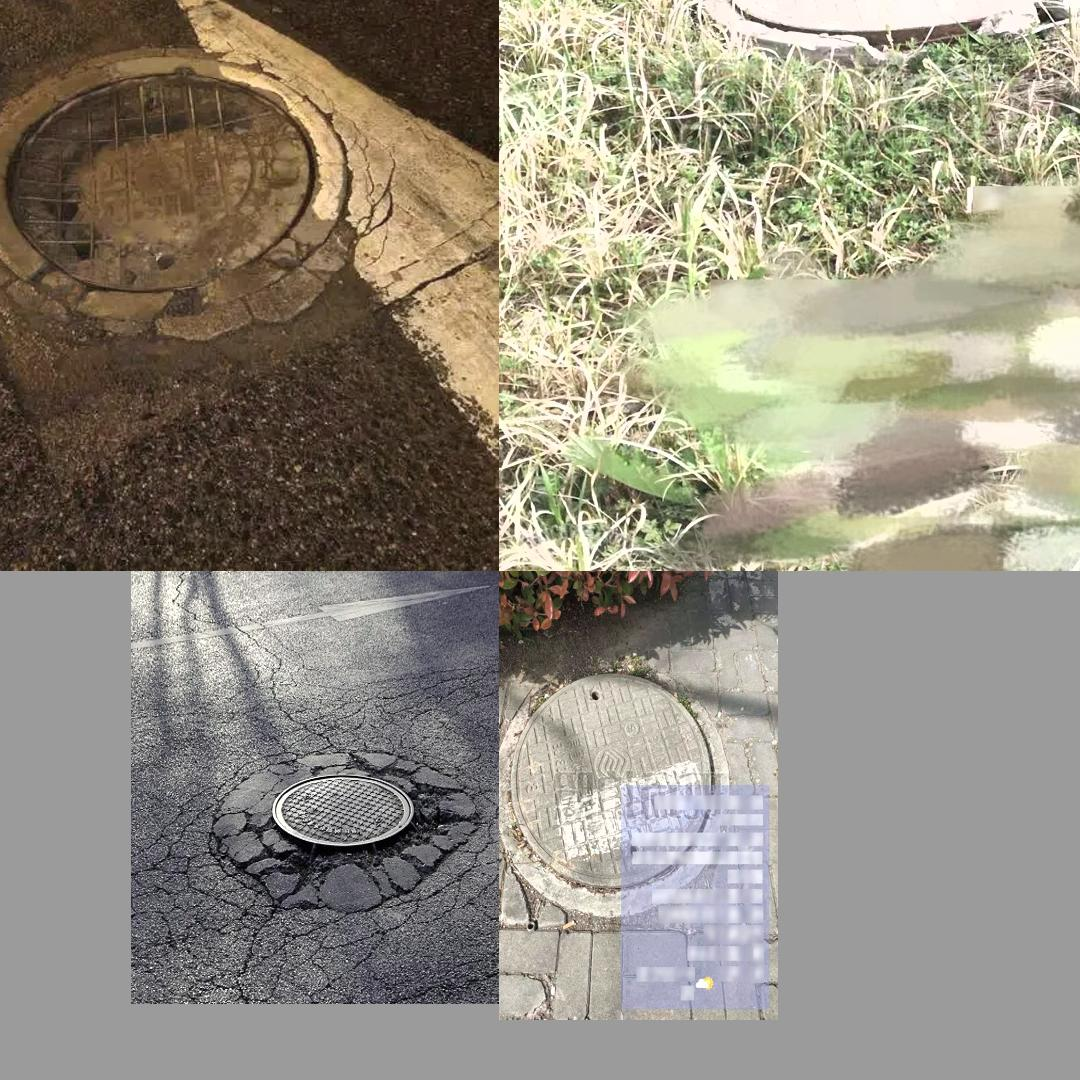circle: (0, 17, 450, 416), (503, 662, 718, 907), (206, 730, 463, 931), (671, 0, 1080, 66)
